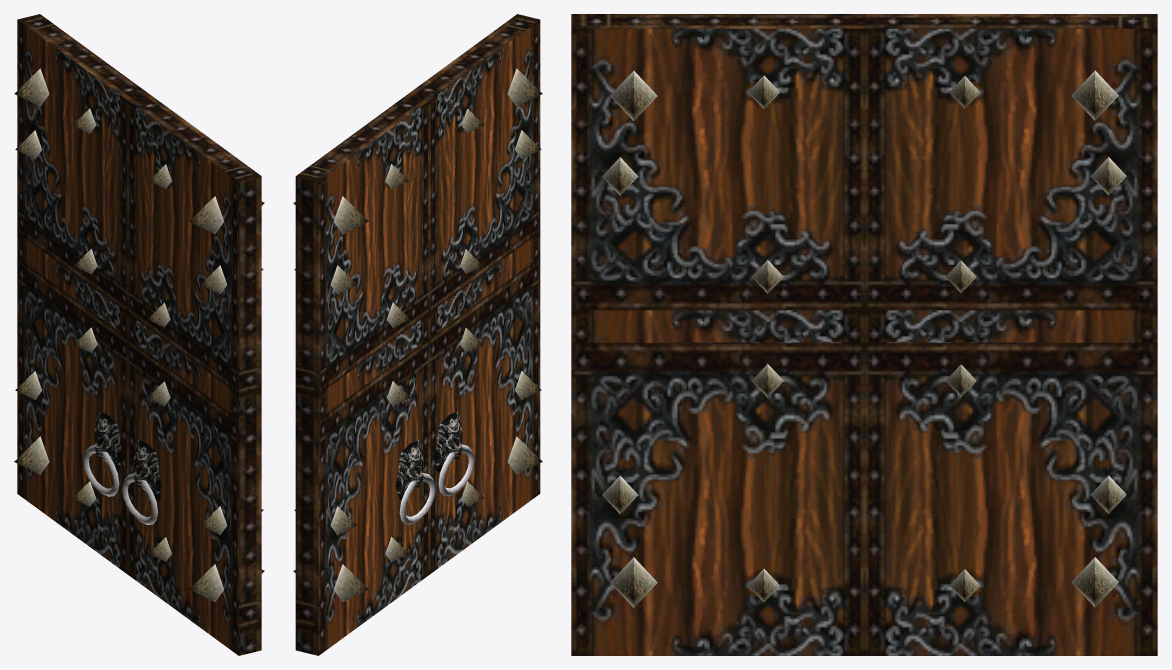
Rendered from INST_SWORDLIGHT_TROLLDOORS_ANI1.obj.
3 renders of one model, left to right at view 1: azimuth 30°, elevation 25°; view 2: azimuth 150°, elevation 25°; view 3: azimuth 270°, elevation 25°, orthographic. The views are drawn at different scales.
Parts seen in each view (by area): view 1: ollDoor_Lod1_02, ollDoor_Lod1_01; view 2: ollDoor_Lod1_01, ollDoor_Lod1_02; view 3: ollDoor_Lod1_02, ollDoor_Lod1_01.
Part boxes in pixels (bbox=[...]): ollDoor_Lod1_02: bbox=[122, 95, 264, 655]; ollDoor_Lod1_01: bbox=[14, 14, 150, 574]; ollDoor_Lod1_01: bbox=[293, 95, 435, 655]; ollDoor_Lod1_02: bbox=[406, 14, 542, 574]; ollDoor_Lod1_02: bbox=[571, 14, 865, 655]; ollDoor_Lod1_01: bbox=[864, 14, 1157, 655].
Size of the model in its own units: 137 by 815 by 690.
